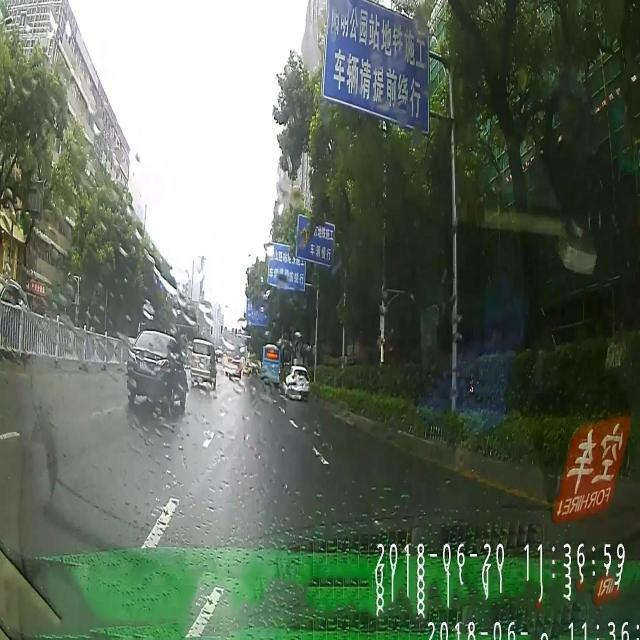car: (125, 328, 188, 416), (0, 270, 31, 358), (191, 335, 216, 390), (284, 362, 310, 402), (227, 358, 242, 380)
